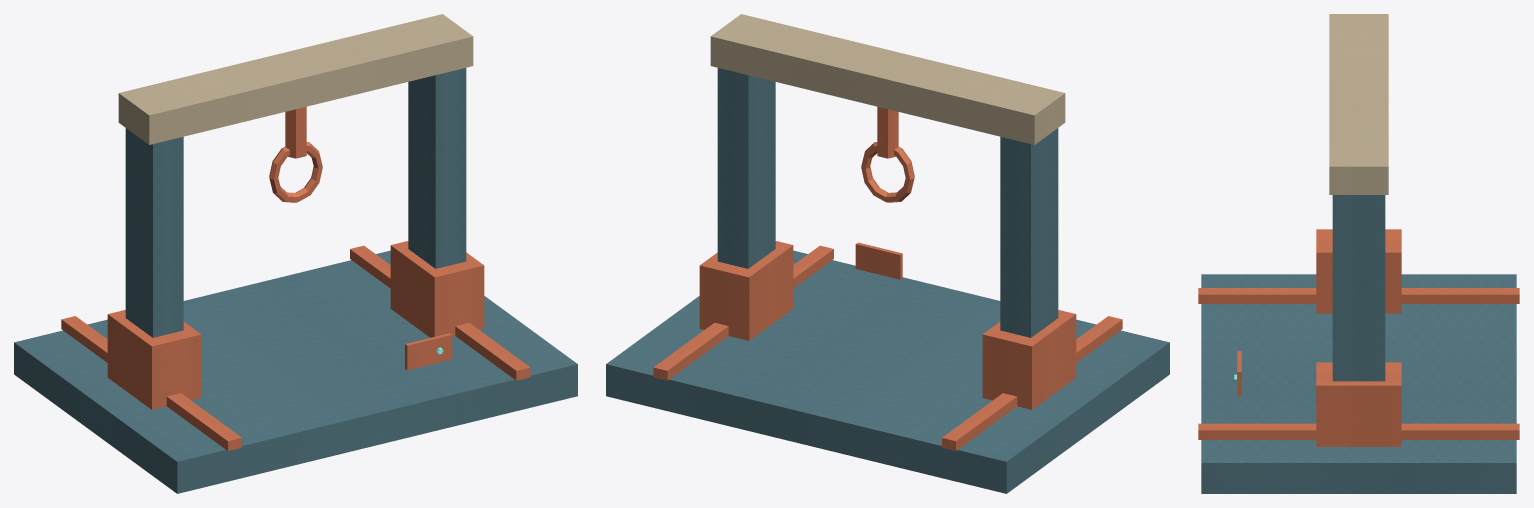
File: atlas100-s044-a02.lod1.glb
3 views of the same model, side by side, from view 1: azimuth 30°, elevation 25°; view 2: azimuth 150°, elevation 25°; view 3: azimuth 270°, elevation 25° (orthographic). The views are drawn at different scales.
Visible parts, largest first — view 1: atlas100-s044-a02:part-000, atlas100-s044-a02:part-007, atlas100-s044-a02:part-003, atlas100-s044-a02:part-005, atlas100-s044-a02:part-004, atlas100-s044-a02:part-006, atlas100-s044-a02:part-001, atlas100-s044-a02:part-002, atlas100-s044-a02:part-009, atlas100-s044-a02:part-010, atlas100-s044-a02:part-008; view 2: atlas100-s044-a02:part-000, atlas100-s044-a02:part-007, atlas100-s044-a02:part-003, atlas100-s044-a02:part-005, atlas100-s044-a02:part-006, atlas100-s044-a02:part-004, atlas100-s044-a02:part-001, atlas100-s044-a02:part-002, atlas100-s044-a02:part-009, atlas100-s044-a02:part-010, atlas100-s044-a02:part-008; view 3: atlas100-s044-a02:part-000, atlas100-s044-a02:part-007, atlas100-s044-a02:part-005, atlas100-s044-a02:part-006, atlas100-s044-a02:part-002, atlas100-s044-a02:part-001, atlas100-s044-a02:part-004.
Part boxes in pixels (box(x1,y1,x2,y2)): atlas100-s044-a02:part-000: box(14, 250, 577, 493); atlas100-s044-a02:part-007: box(118, 14, 473, 144); atlas100-s044-a02:part-003: box(125, 128, 183, 337); atlas100-s044-a02:part-005: box(408, 68, 466, 268); atlas100-s044-a02:part-004: box(107, 310, 201, 409); atlas100-s044-a02:part-006: box(390, 241, 484, 337); atlas100-s044-a02:part-001: box(61, 316, 241, 450); atlas100-s044-a02:part-002: box(350, 245, 530, 380); atlas100-s044-a02:part-009: box(269, 142, 322, 202); atlas100-s044-a02:part-010: box(405, 333, 452, 370); atlas100-s044-a02:part-008: box(285, 106, 306, 158); atlas100-s044-a02:part-000: box(606, 250, 1169, 493); atlas100-s044-a02:part-007: box(710, 14, 1065, 144); atlas100-s044-a02:part-003: box(1000, 128, 1058, 337); atlas100-s044-a02:part-005: box(717, 68, 775, 268); atlas100-s044-a02:part-006: box(699, 241, 793, 340); atlas100-s044-a02:part-004: box(982, 310, 1076, 409); atlas100-s044-a02:part-001: box(942, 316, 1122, 450); atlas100-s044-a02:part-002: box(653, 245, 833, 380); atlas100-s044-a02:part-009: box(861, 142, 914, 202); atlas100-s044-a02:part-010: box(855, 242, 902, 279); atlas100-s044-a02:part-008: box(877, 106, 898, 158); atlas100-s044-a02:part-000: box(1201, 274, 1516, 493); atlas100-s044-a02:part-007: box(1329, 14, 1388, 194); atlas100-s044-a02:part-005: box(1332, 195, 1385, 381); atlas100-s044-a02:part-006: box(1316, 362, 1401, 446); atlas100-s044-a02:part-002: box(1198, 423, 1519, 439); atlas100-s044-a02:part-001: box(1198, 288, 1519, 303); atlas100-s044-a02:part-004: box(1316, 229, 1401, 313).
Size of the model in its own units: 3.4 by 2.6 by 2.45.
Materials: 4 (4 with a texture image).
